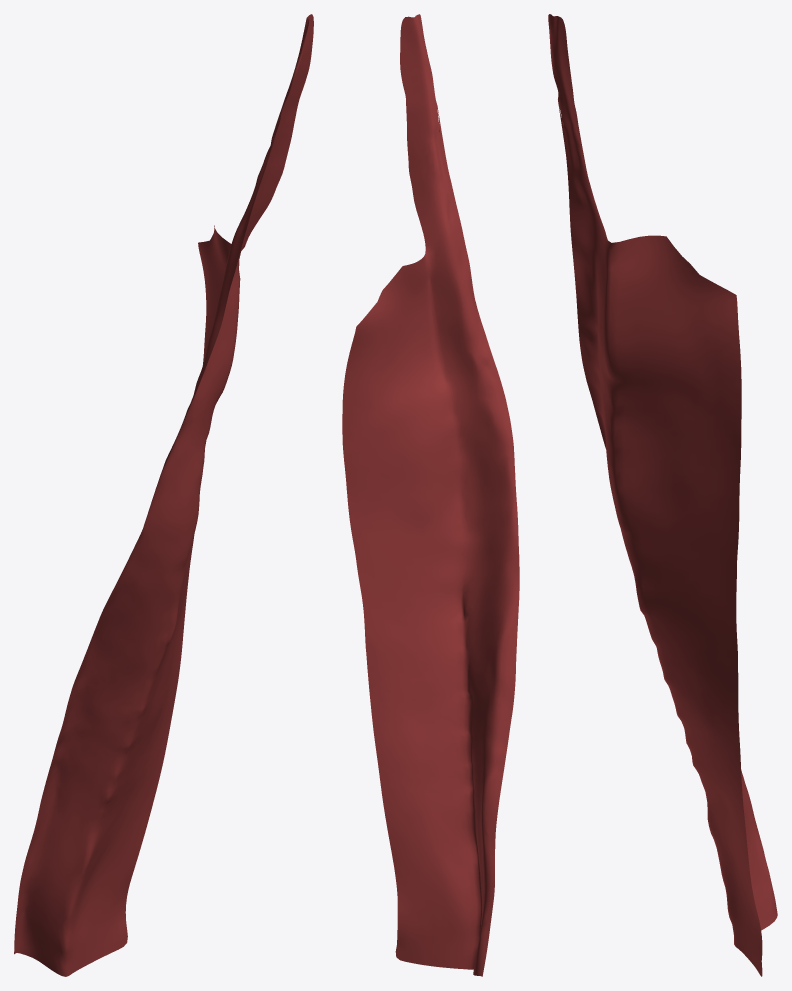
The model's file is medial-femoral-intermuscular-septum-l.glb.
3 views of the same model, side by side, from view 1: azimuth 30°, elevation 25°; view 2: azimuth 150°, elevation 25°; view 3: azimuth 270°, elevation 25° (orthographic). The views are drawn at different scales.
Parts seen in each view (by area): view 1: Medial femoral intermuscular septum.l; view 2: Medial femoral intermuscular septum.l; view 3: Medial femoral intermuscular septum.l.
Boxes of the visible parts, x1,y1,x2,y2 form: Medial femoral intermuscular septum.l: (14, 14, 313, 976); Medial femoral intermuscular septum.l: (342, 14, 519, 976); Medial femoral intermuscular septum.l: (548, 14, 777, 976).
Bounding box in the file's own units: 0.086 × 0.4059 × 0.0838.
